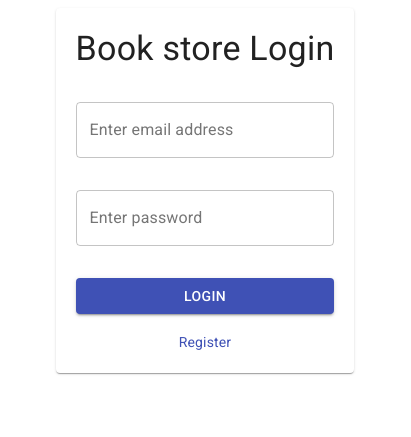
Test case: Login test › should show email and password invalid error message
# Simulate field typing
Type "Invalid email" into the field labelled "Enter email address". click: (205, 130)
box: [76,102,334,158]
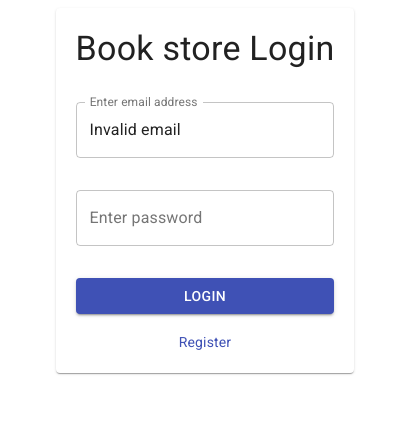
Type "wrongP" into the field labelled "Enter password". click: (205, 218)
box: [76,190,334,246]
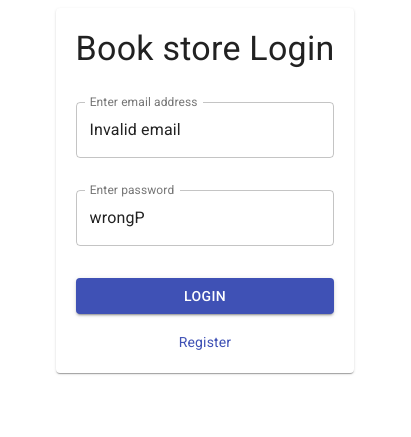
# Simulate submit event
Submit the form from the button "Login", box [76,278,334,314]
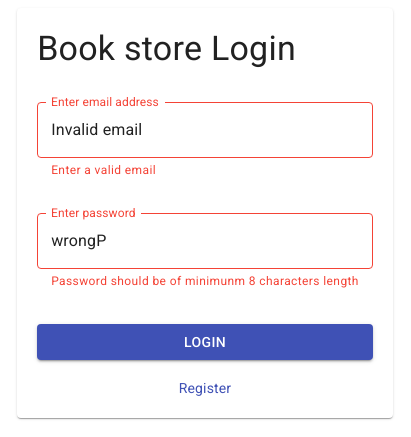
Expected: the text "Enter a valid email" is shown, [51,163,156,177]
Expected: the text "Password should be of minimunm 8 characters length" is shown, [51,272,359,292]
